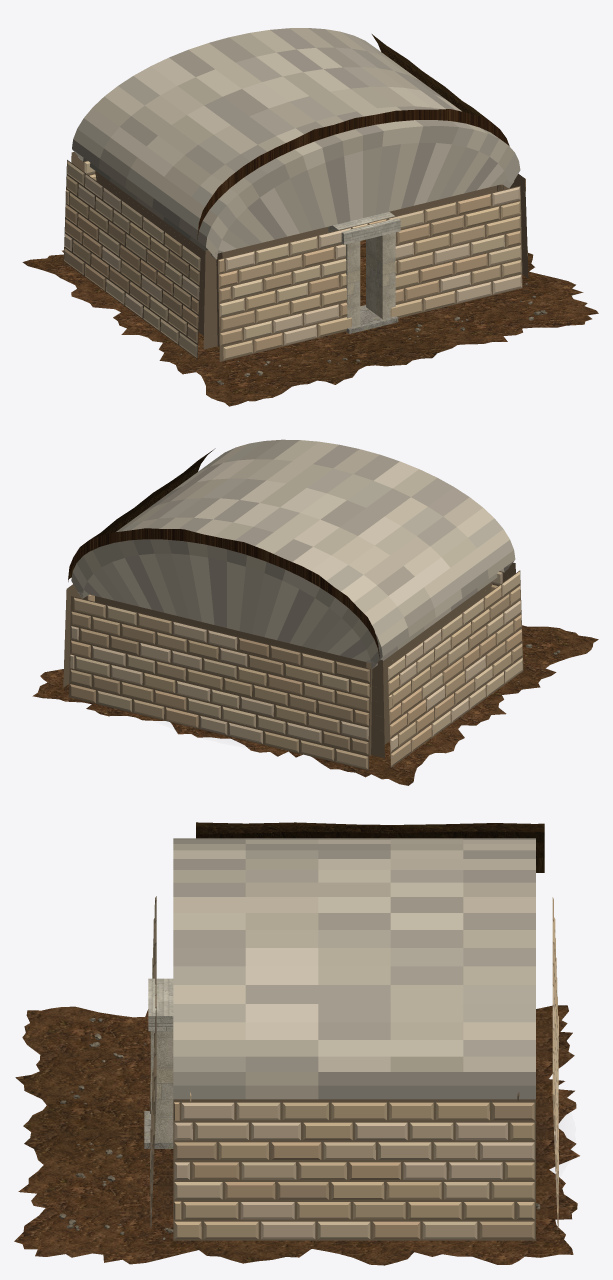
The model's file is cellar@2.glb.
3 views of the same model, one above another, from view 1: azimuth 30°, elevation 25°; view 2: azimuth 150°, elevation 25°; view 3: azimuth 270°, elevation 25° (orthographic). The views are drawn at different scales.
Parts seen in each view (by area): view 1: part_8, part_4, part_1, part_9, part_5, part_6, part_7, part_0; view 2: part_8, part_4, part_1, part_9; view 3: part_8, part_4, part_1, part_9, part_5, part_6, part_3, part_2.
Part boxes in pixels (x1=…): part_8: x1=72, y1=28, x2=520, y2=259; part_4: x1=63, y1=152, x2=528, y2=361; part_1: x1=22, y1=250, x2=598, y2=406; part_9: x1=197, y1=34, x2=509, y2=239; part_5: x1=345, y1=232, x2=395, y2=326; part_6: x1=328, y1=212, x2=400, y2=244; part_7: x1=346, y1=305, x2=398, y2=333; part_0: x1=198, y1=239, x2=365, y2=355; part_8: x1=71, y1=439, x2=515, y2=668; part_4: x1=63, y1=562, x2=523, y2=770; part_1: x1=32, y1=625, x2=598, y2=785; part_9: x1=68, y1=448, x2=379, y2=658; part_8: x1=173, y1=838, x2=535, y2=1099; part_4: x1=150, y1=896, x2=558, y2=1240; part_1: x1=14, y1=1005, x2=579, y2=1265; part_9: x1=196, y1=822, x2=544, y2=872; part_5: x1=151, y1=1031, x2=173, y2=1142; part_6: x1=148, y1=978, x2=173, y2=1031; part_3: x1=162, y1=1088, x2=546, y2=1206; part_2: x1=59, y1=1017, x2=540, y2=1239.
Size of the model in its own units: 7.02 by 3.38 by 6.67.
Materials: 17 (10 with a texture image).
